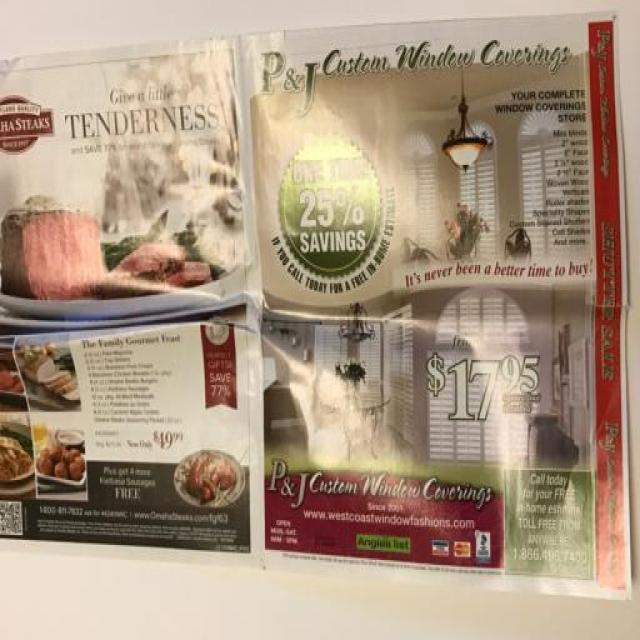paper: (1, 28, 640, 606)
